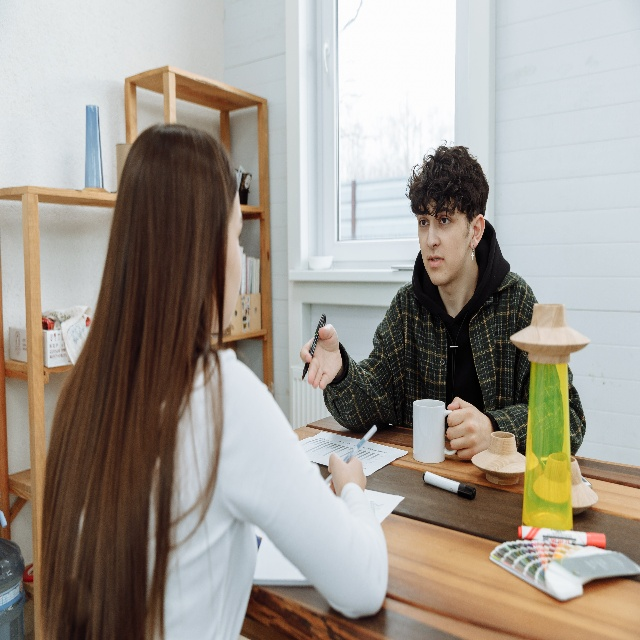Sin_guantes: (446, 396, 494, 461), (300, 323, 343, 390), (327, 452, 367, 497)
